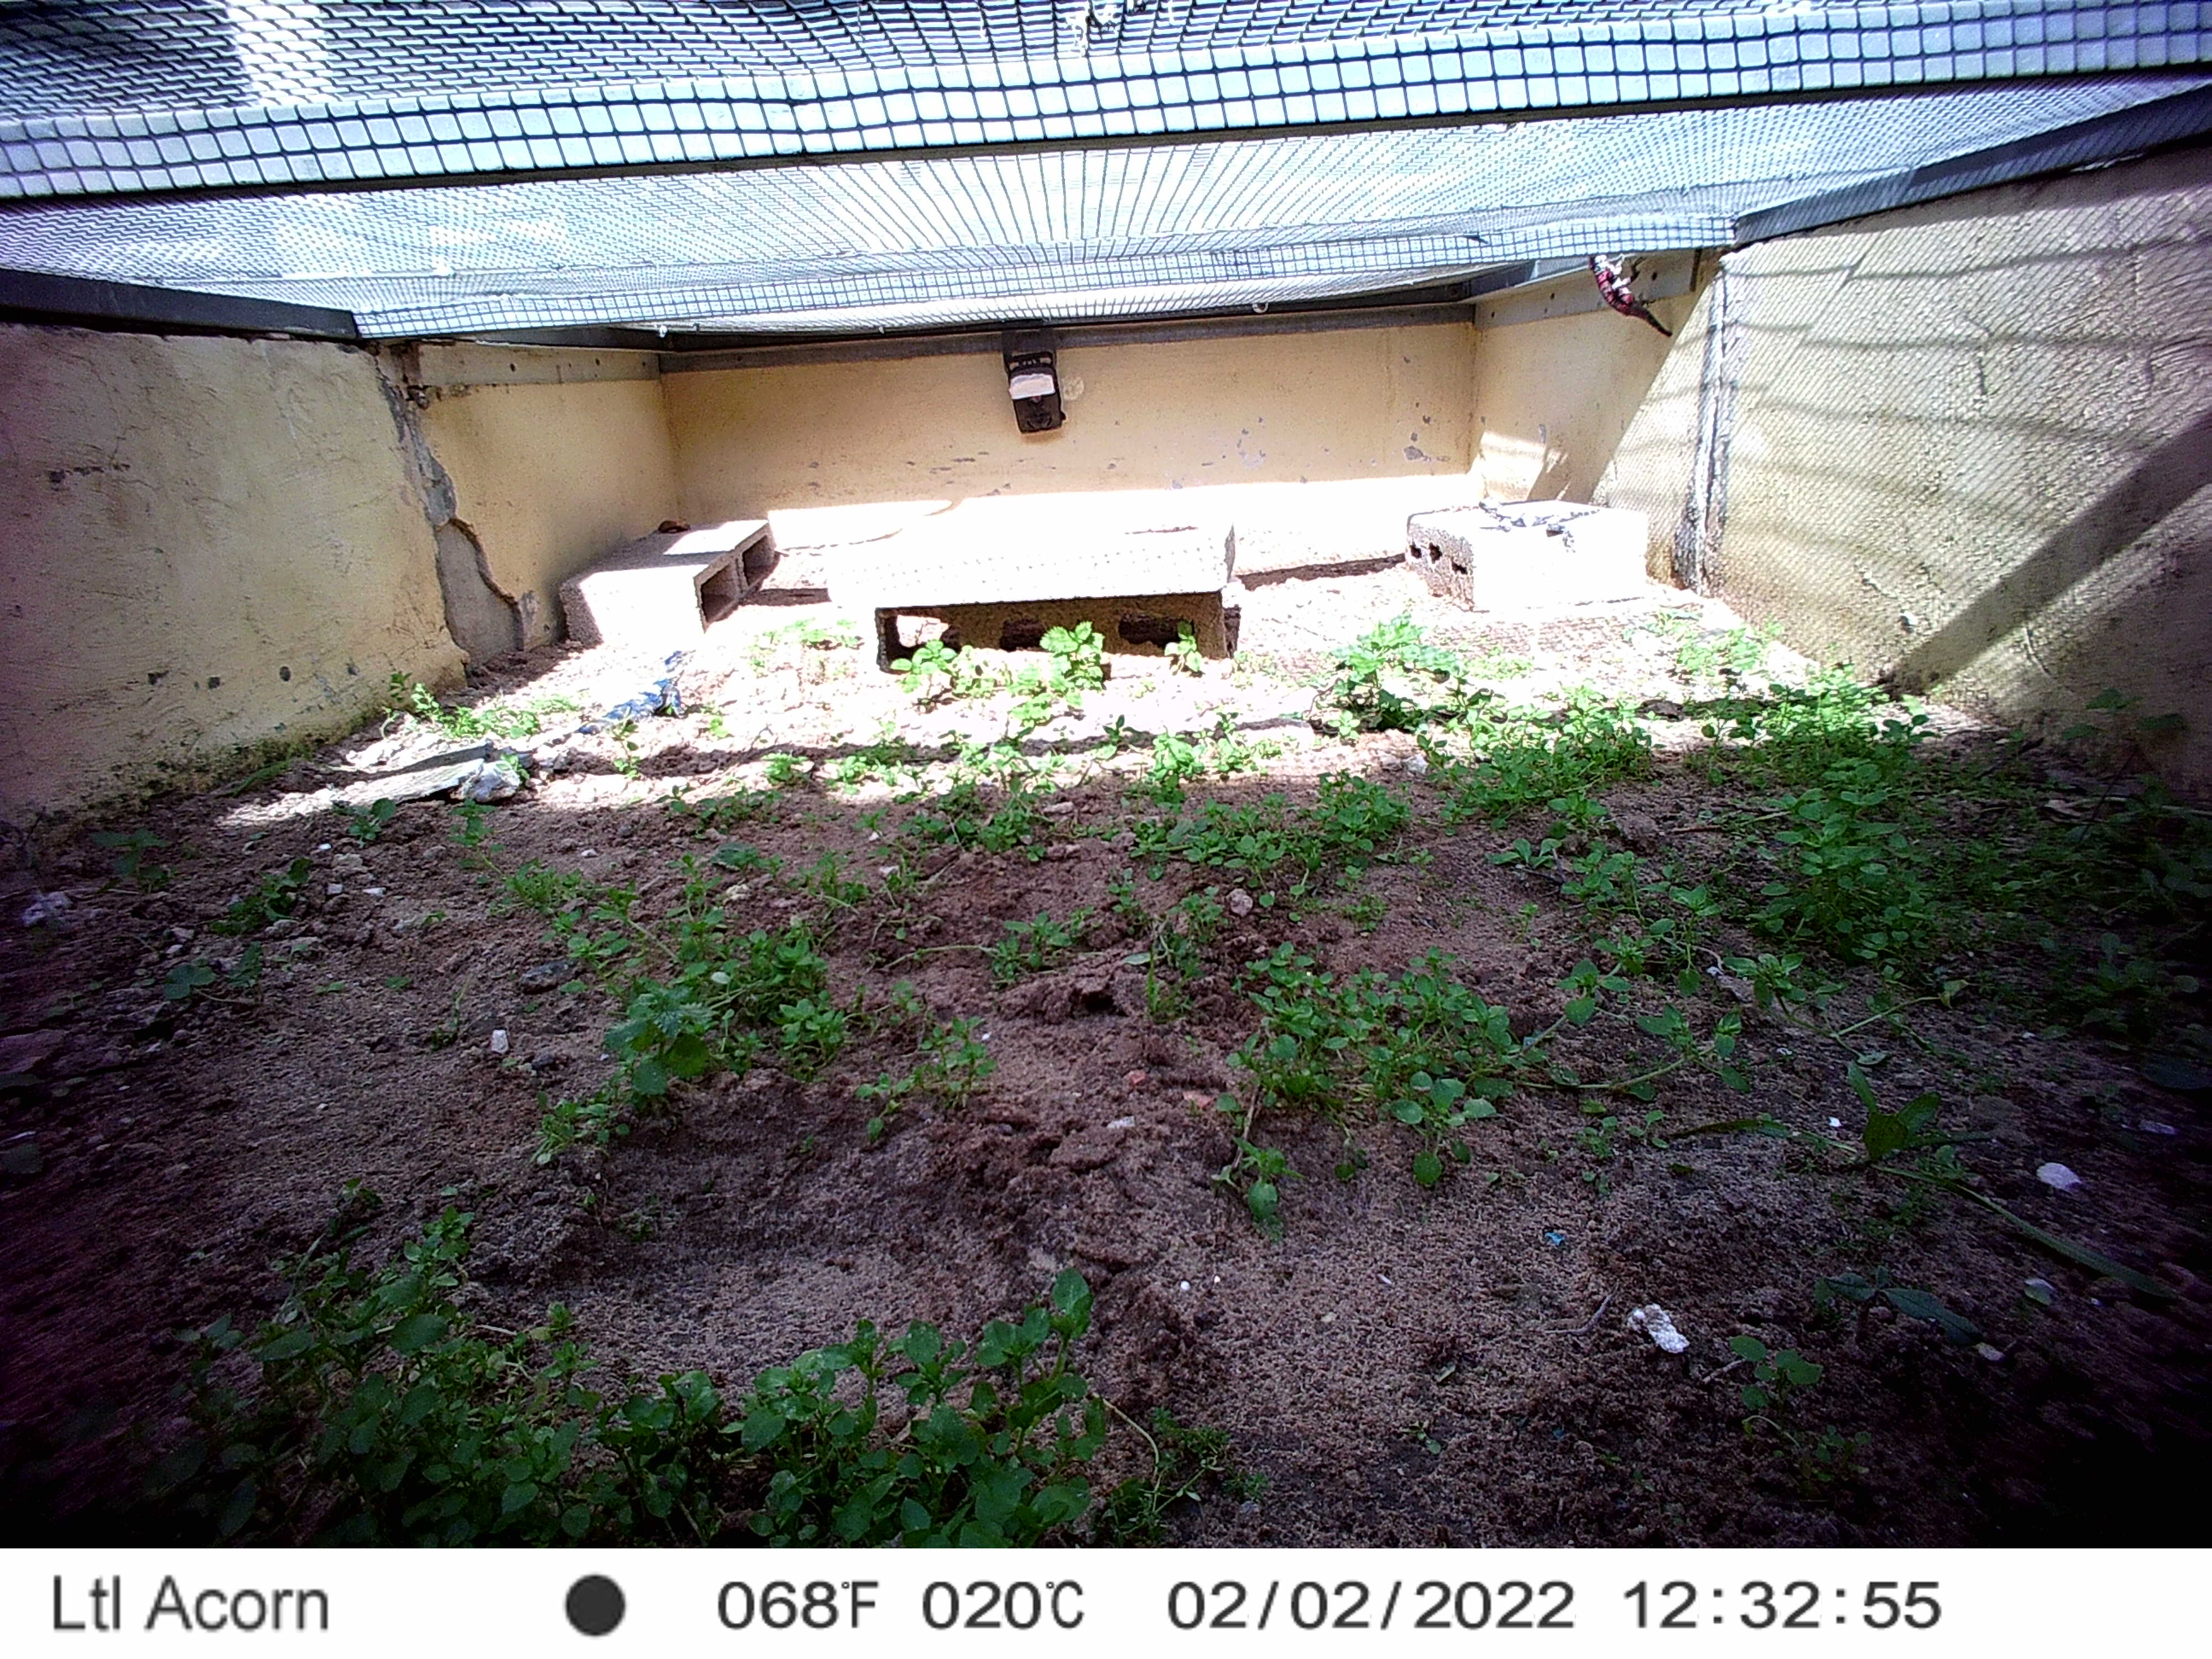lizard: (510, 641, 705, 762), (1580, 253, 1684, 343), (1475, 497, 1625, 551)
